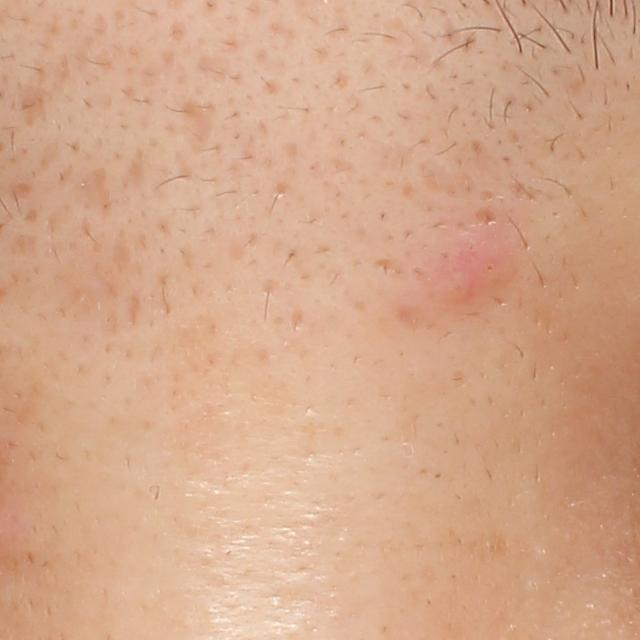atrophic_scar: (176, 95, 219, 156), (18, 55, 50, 134), (75, 167, 111, 217), (120, 146, 154, 196), (108, 227, 131, 277)
papule: (428, 228, 526, 315)
